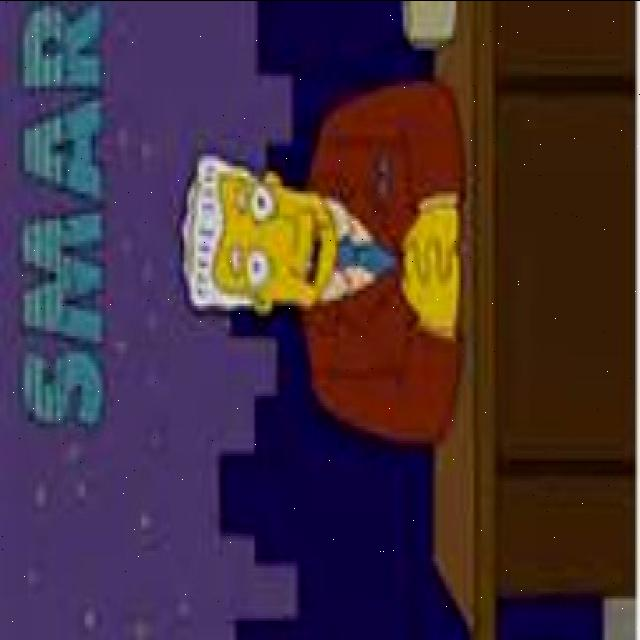Kent Brockman: (177, 148, 340, 318)
